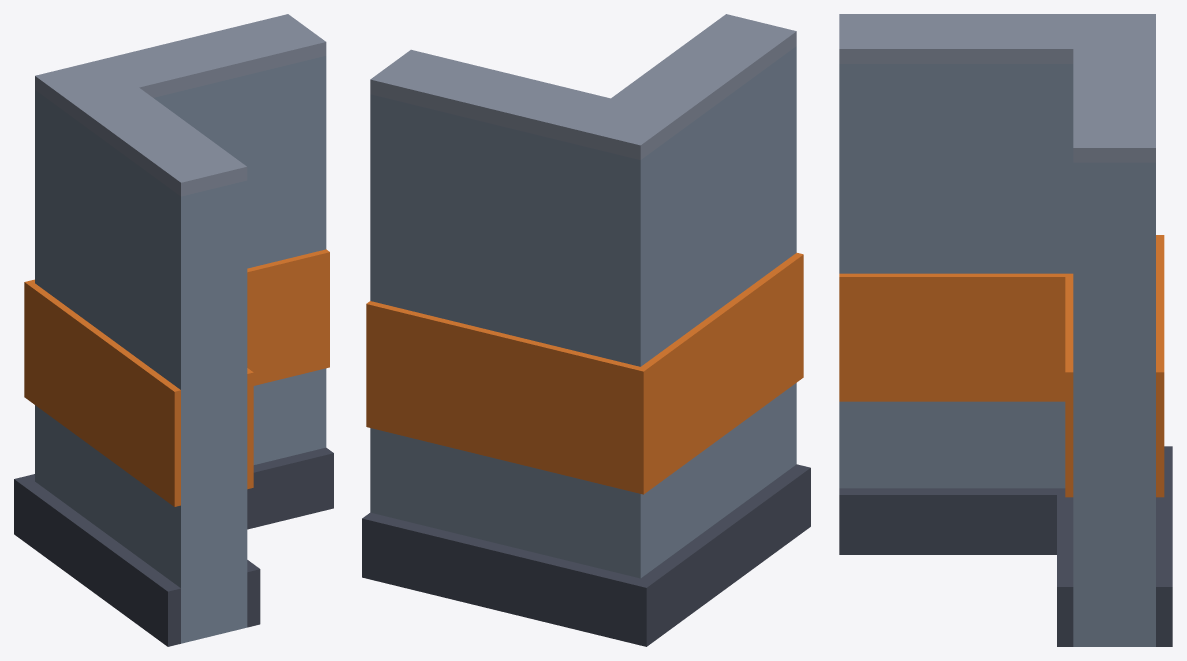
File: partition-full-elbow.glb
3 views of the same model, side by side, from view 1: azimuth 30°, elevation 25°; view 2: azimuth 150°, elevation 25°; view 3: azimuth 270°, elevation 25° (orthographic). The views are drawn at different scales.
Parts seen in each view (by area): view 1: partition-full-elbow; view 2: partition-full-elbow; view 3: partition-full-elbow.
Boxes of the visible parts, x1,y1,x2,y2 form: partition-full-elbow: (14,14,333,646); partition-full-elbow: (362,14,810,646); partition-full-elbow: (839,14,1172,646).
Bounding box in the file's own units: 0.605 × 1 × 0.605.
Materials: 1 (1 with a texture image).
